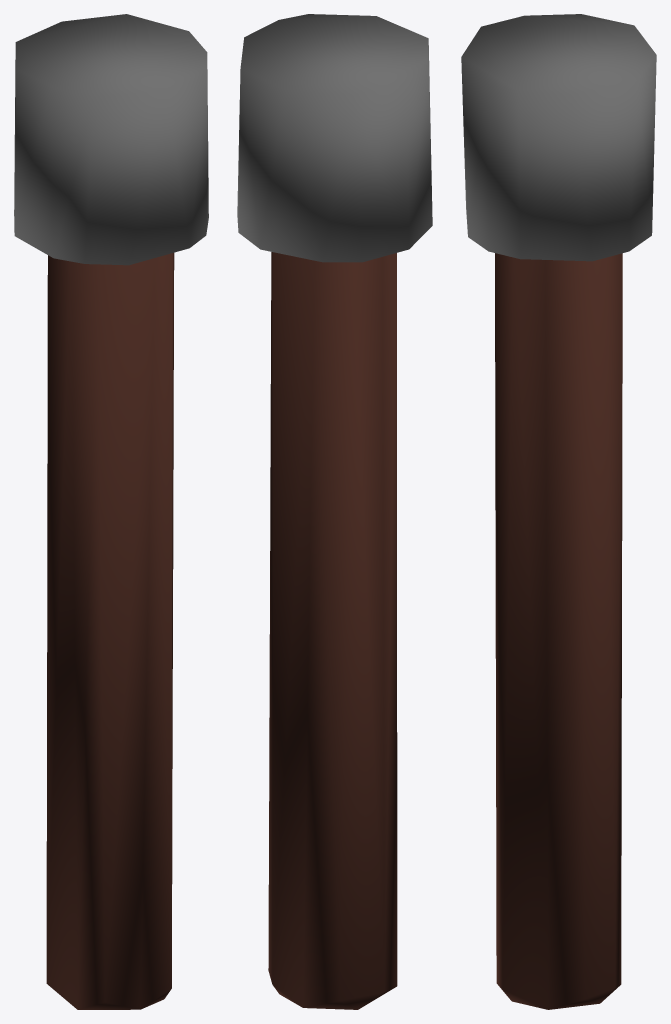
The model's file is Antorcha.glb.
3 renders of one model, left to right at view 1: azimuth 30°, elevation 25°; view 2: azimuth 150°, elevation 25°; view 3: azimuth 270°, elevation 25°, orthographic.
Parts seen in each view (by area): view 1: Base, Base.001; view 2: Base, Base.001; view 3: Base, Base.001.
Part boxes in pixels (left/top/right/bottom): Base: left=46, top=253, right=174, bottom=1009; Base.001: left=14, top=14, right=208, bottom=265; Base: left=268, top=252, right=397, bottom=1009; Base.001: left=237, top=14, right=432, bottom=262; Base: left=495, top=253, right=622, bottom=1009; Base.001: left=461, top=14, right=656, bottom=261.
Size of the model in its own units: 0.5162 by 2.72 by 0.5147.
